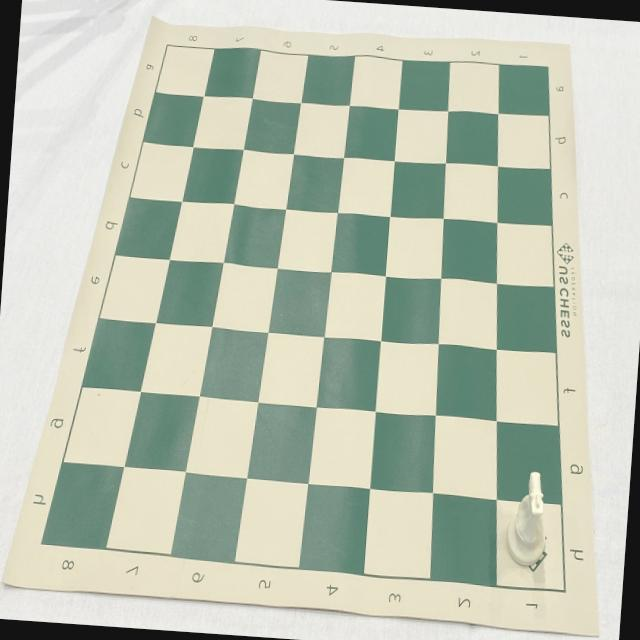white-knight: (502, 470, 549, 570)
